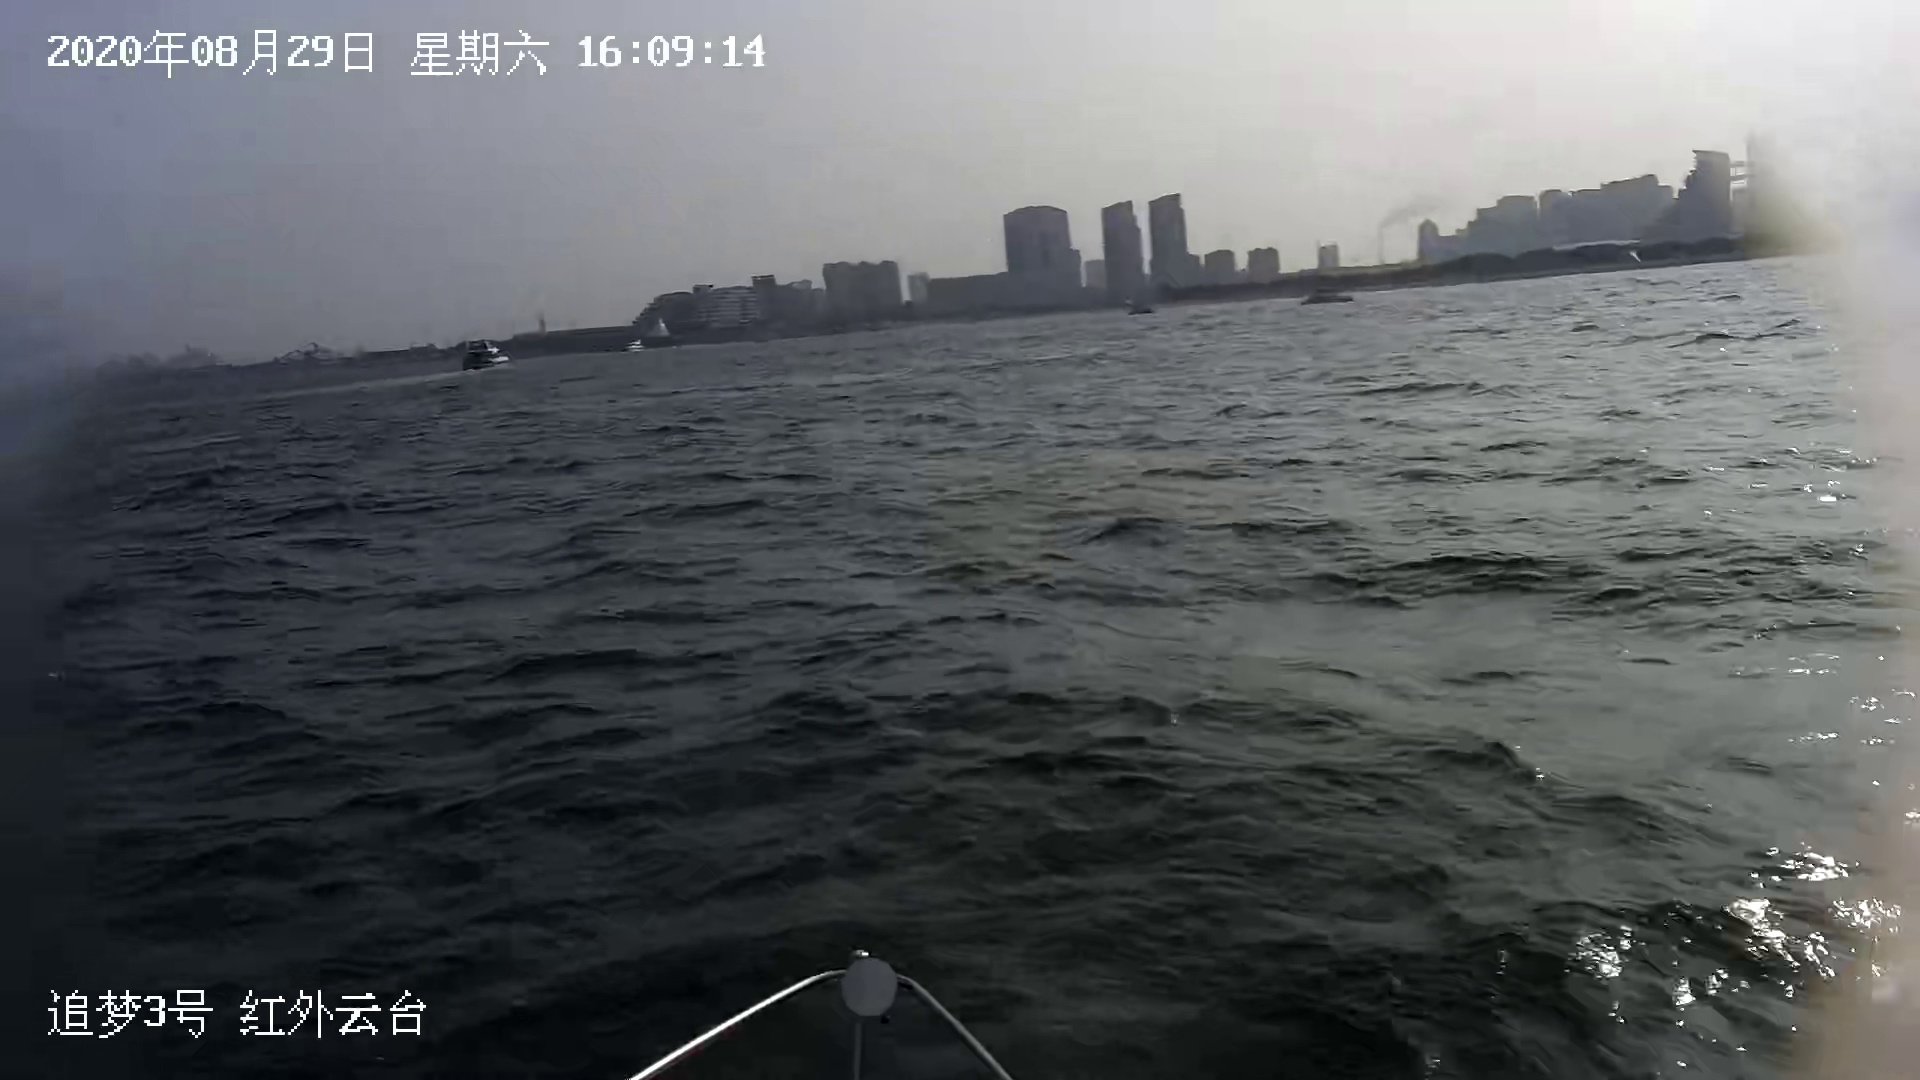barrier: (459, 336, 516, 375), (622, 322, 688, 348), (1288, 285, 1357, 305)
coast: (78, 115, 1920, 392)
